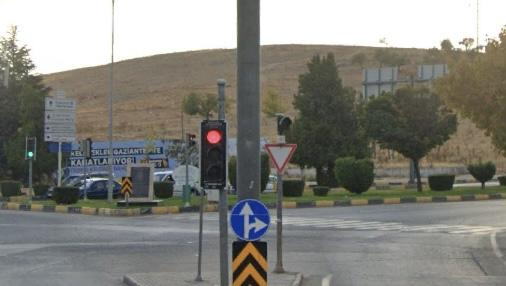greenlight: (26, 137, 37, 162)
redlight: (203, 121, 226, 189)
